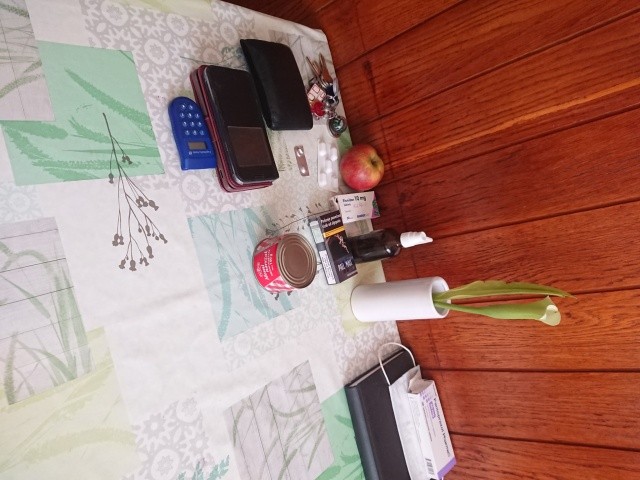Podravka Luncheon Meat 150g: (250, 230, 320, 296)
